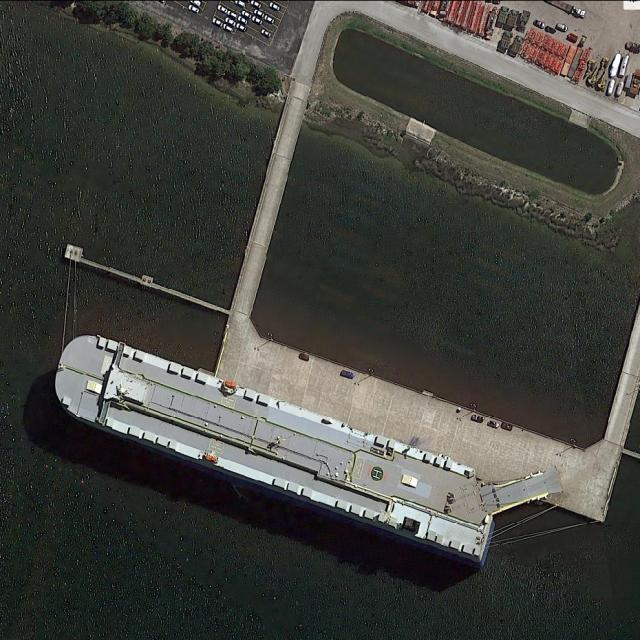RoRo: (39, 324, 509, 564)
